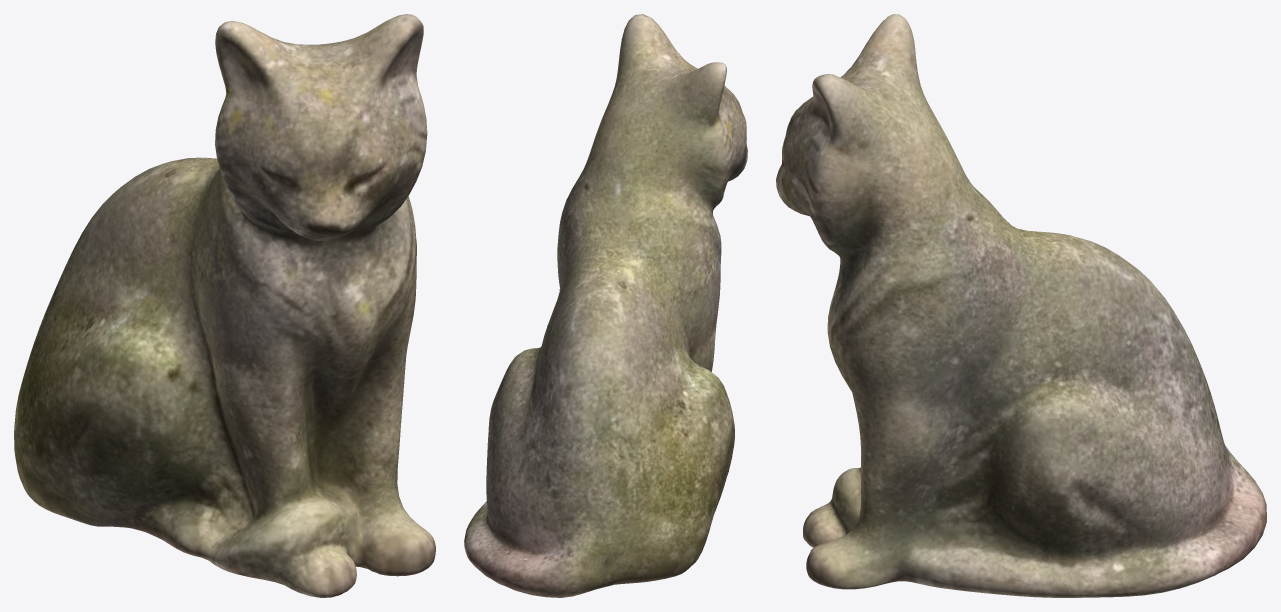
Rendered from concrete_cat_statue.glb.
3 renders of one model, left to right at view 1: azimuth 30°, elevation 25°; view 2: azimuth 150°, elevation 25°; view 3: azimuth 270°, elevation 25°, orthographic. The views are drawn at different scales.
Visible parts, largest first — view 1: concrete_cat_statue; view 2: concrete_cat_statue; view 3: concrete_cat_statue.
Boxes of the visible parts, bbox=[...] form: concrete_cat_statue: bbox=[14, 14, 435, 597]; concrete_cat_statue: bbox=[464, 14, 747, 597]; concrete_cat_statue: bbox=[776, 14, 1266, 597].
Bounding box in the file's own units: 0.153 × 0.283 × 0.25.
Materials: 1 (1 with a texture image).
